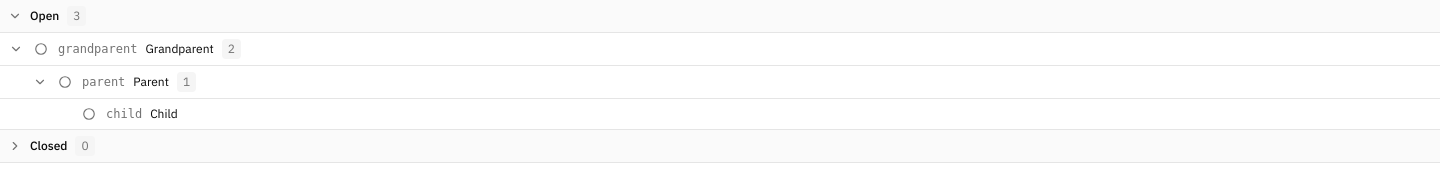
TaskList › deeply nested hierarchies (grandchildren) › collapses parent and hides all descendants
Check: the text "Grandparent" is shown, box [146,41,214,57]
Check: the text "Parent" is shown, box [133,74,169,90]
// Collapse the grandparent (first collapse button)
Click the 1st button named "Collapse subtasks" at (16, 49), box [7,40,25,58]
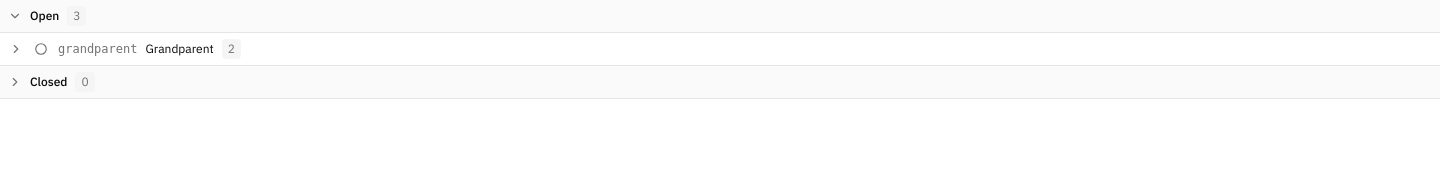
Check: the text "Grandparent" is shown, box [146,41,214,57]
Check: the button "child" is gone
